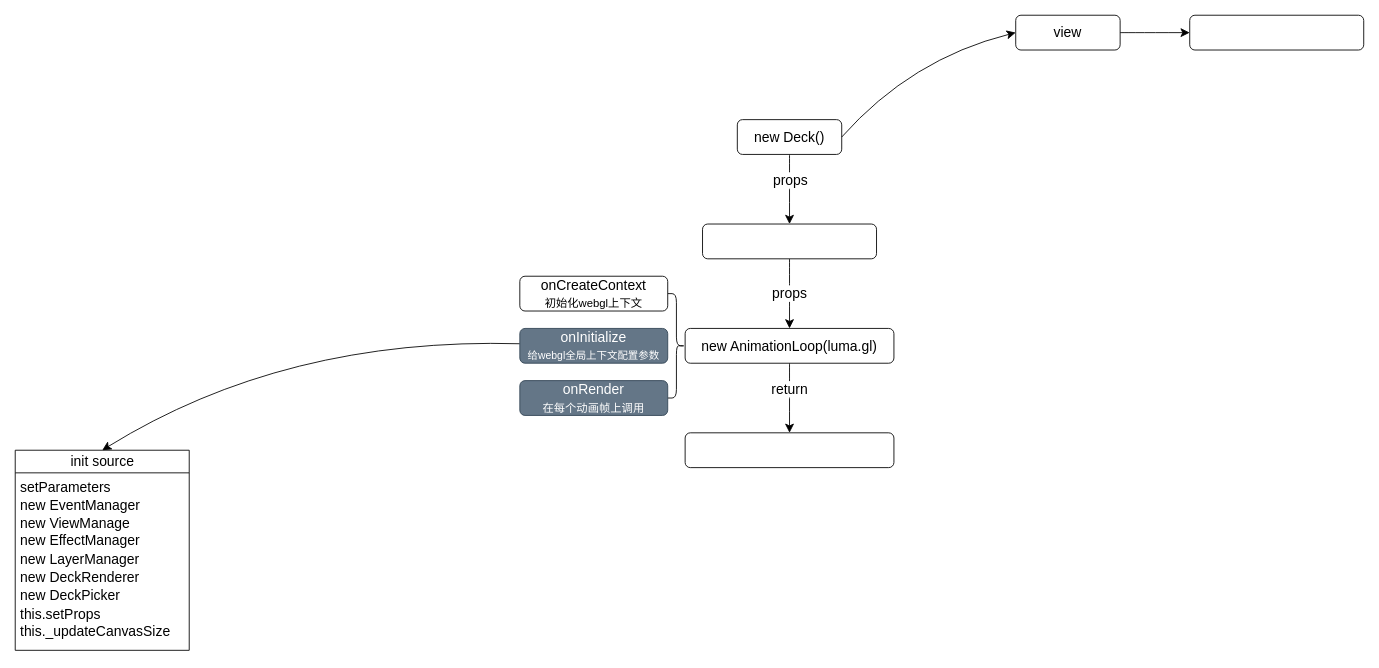
This 1379x668 diagram has some shape labels left out. Here are the shapes that lost their labels. From the top down, the centre of each, then its label:
[1276,32]: viewState=initViewState
[789,241]: _createAnimationLoop
[789,450]: this.animationLoop
